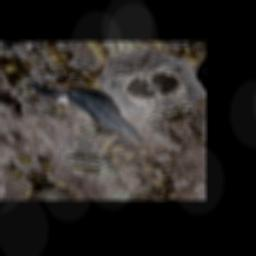Crow: (29, 67, 149, 159)
